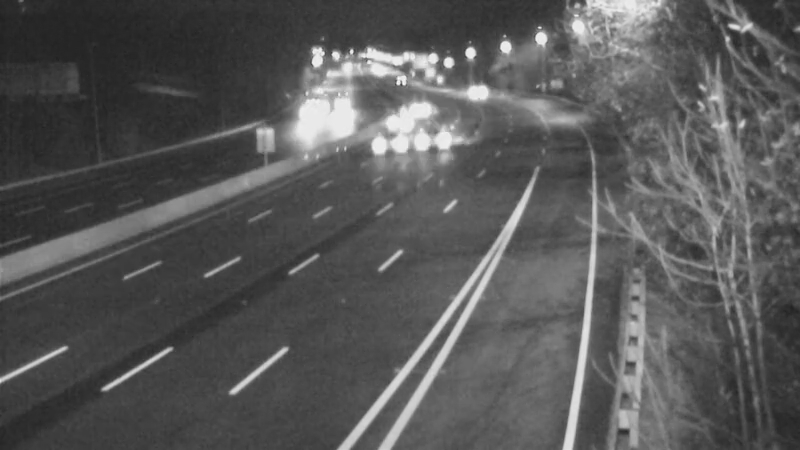vehicle: (373, 54, 423, 104), (446, 64, 496, 114), (394, 83, 444, 133), (374, 96, 424, 146), (406, 110, 456, 160), (367, 114, 417, 164), (293, 86, 343, 136)
